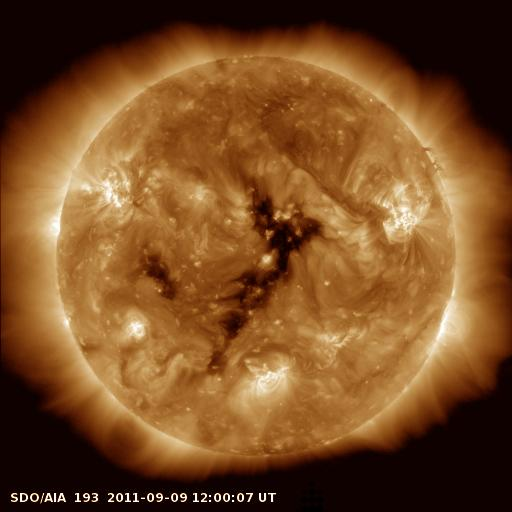coronal_hole: (205, 187, 327, 375), (140, 249, 180, 300)
